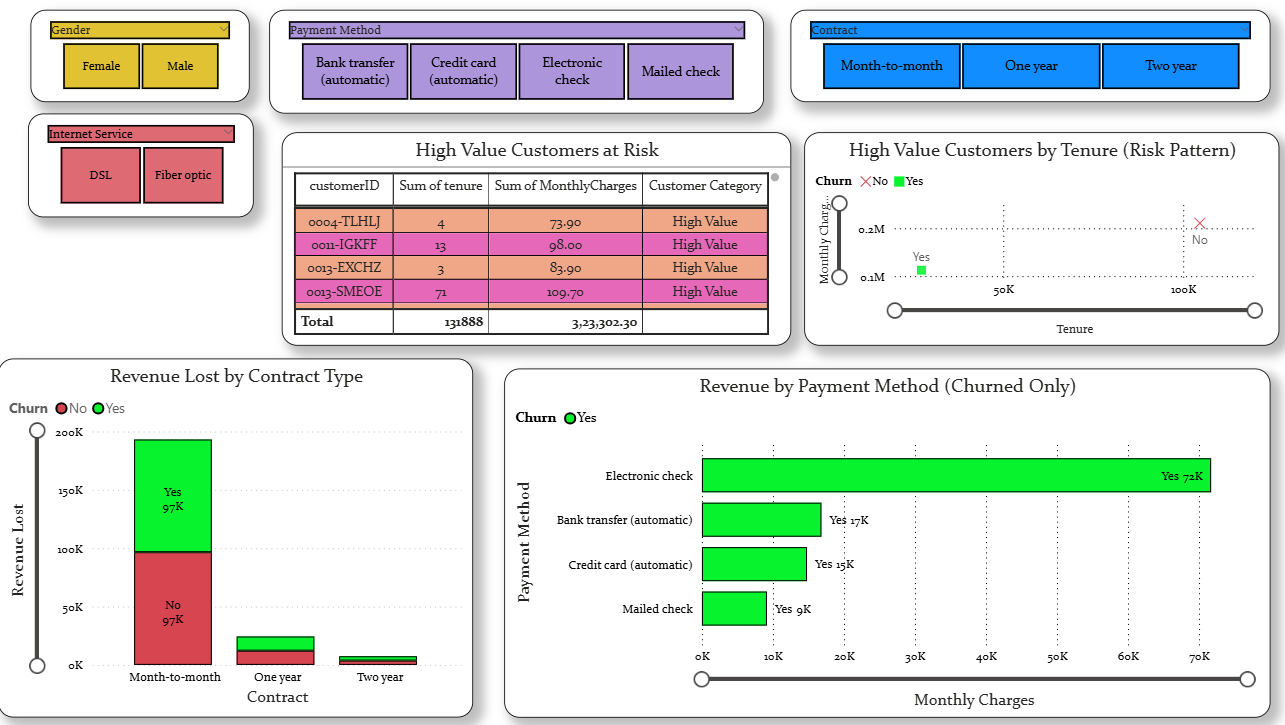

The page's visual inventory and layout, read from the dashboard file:
{"tool":"powerbi","page":{"name":"Revenue Insights","canvas":[1280,720],"ordinal":2},"visuals":[{"type":"tableEx","title":"High Value Customers at Risk","fields":{"Values":["Telco-Customer-Churn.customerID","Sum(Telco-Customer-Churn.tenure)","Sum(Telco-Customer-Churn.MonthlyCharges)","Telco-Customer-Churn.Customer Category"]},"box":[277.2,138.6,498.1,208.6],"z":0},{"type":"columnChart","title":"Revenue Lost by Contract Type","fields":{"Category":["Telco-Customer-Churn.Contract"],"Y":["Telco-Customer-Churn.Revenue Lost"],"Series":["Telco-Customer-Churn.Churn"]},"box":[0,359.5,465.2,351.3],"z":1000},{"type":"scatterChart","title":"High Value Customers by Tenure (Risk Pattern)","fields":{"Y":["Sum(Telco-Customer-Churn.MonthlyCharges)"],"X":["Sum(Telco-Customer-Churn.tenure)"],"Series":["Telco-Customer-Churn.Churn"],"Size":["Sum(Telco-Customer-Churn.MonthlyCharges)"]},"box":[789,138.6,465.2,208.6],"z":2000},{"type":"barChart","title":"Revenue by Payment Method (Churned Only)","fields":{"Category":["Telco-Customer-Churn.PaymentMethod"],"Y":["Sum(Telco-Customer-Churn.MonthlyCharges)"],"Series":["Telco-Customer-Churn.Churn"]},"box":[495.4,369.1,749.2,341.7],"z":4000},{"type":"slicer","fields":{"Values":["Telco-Customer-Churn.gender"]},"box":[31.8,17.8,214.1,90.6],"z":4001},{"type":"slicer","fields":{"Values":["Telco-Customer-Churn.Contract"]},"box":[775.3,17.8,469.3,90.6],"z":4002},{"type":"slicer","fields":{"Values":["Telco-Customer-Churn.InternetService"]},"box":[28.8,119.4,220.9,101.5],"z":4003},{"type":"slicer","fields":{"Values":["Telco-Customer-Churn.PaymentMethod"]},"box":[264.8,17.8,484.4,101.5],"z":4004}]}

Visuals, with their boxes in screenshot pixels (x1, y1, x2, y2), scaled from the page's 1280x720 canvas onto the 1285x725 screenshot:
"High Value Customers at Risk" tableEx: detection(278, 140, 778, 350)
"Revenue Lost by Contract Type" columnChart: detection(0, 362, 467, 716)
"High Value Customers by Tenure (Risk Pattern)" scatterChart: detection(792, 140, 1259, 350)
"Revenue by Payment Method (Churned Only)" barChart: detection(497, 372, 1249, 716)
slicer - Telco-Customer-Churn.gender: detection(32, 18, 247, 109)
slicer - Telco-Customer-Churn.Contract: detection(778, 18, 1249, 109)
slicer - Telco-Customer-Churn.InternetService: detection(29, 120, 251, 222)
slicer - Telco-Customer-Churn.PaymentMethod: detection(266, 18, 752, 120)
